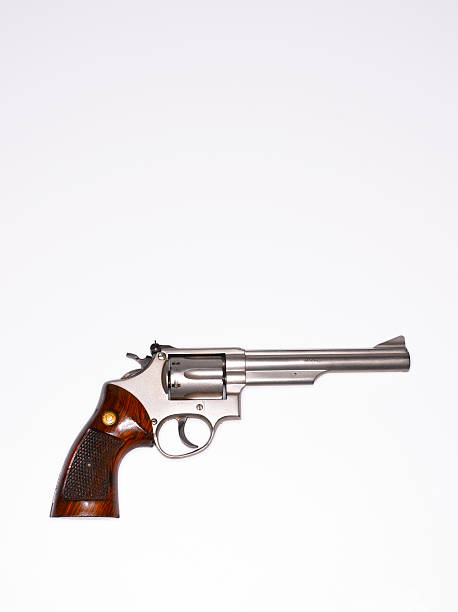pistol: (48, 327, 413, 529)
